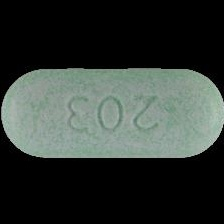57629-203: (0, 0, 224, 224)
